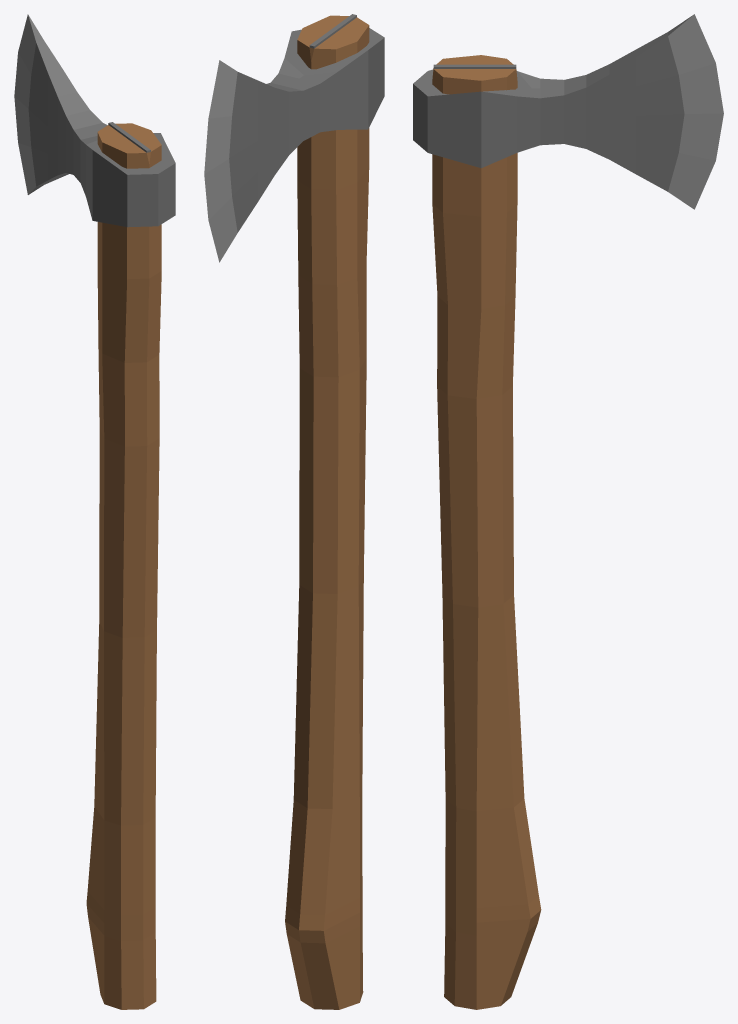
Rendered from fourLuggedChoppingAxe.fbx.
3 views of the same model, side by side, from view 1: azimuth 30°, elevation 25°; view 2: azimuth 150°, elevation 25°; view 3: azimuth 270°, elevation 25° (orthographic). The views are drawn at different scales.
Parts seen in each view (by area): view 1: FourLuggedChoppingAxe; view 2: FourLuggedChoppingAxe; view 3: FourLuggedChoppingAxe.
Part boxes in pixels (<box>): FourLuggedChoppingAxe: <box>14,14,175,1009</box>; FourLuggedChoppingAxe: <box>204,14,384,1009</box>; FourLuggedChoppingAxe: <box>413,14,723,1009</box>.
Bounding box in the file's own units: 13.07 × 166 × 47.7.
